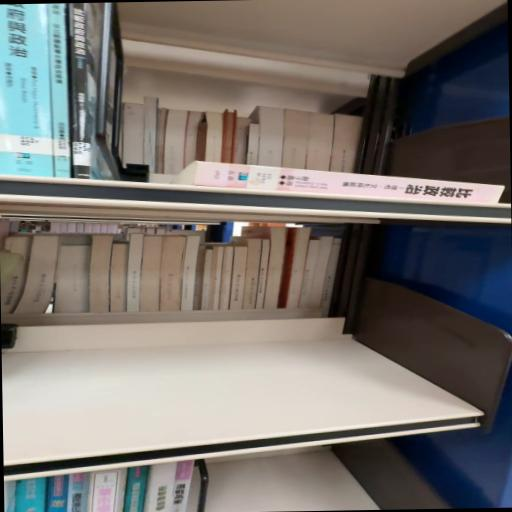flat: (174, 162, 505, 205)
